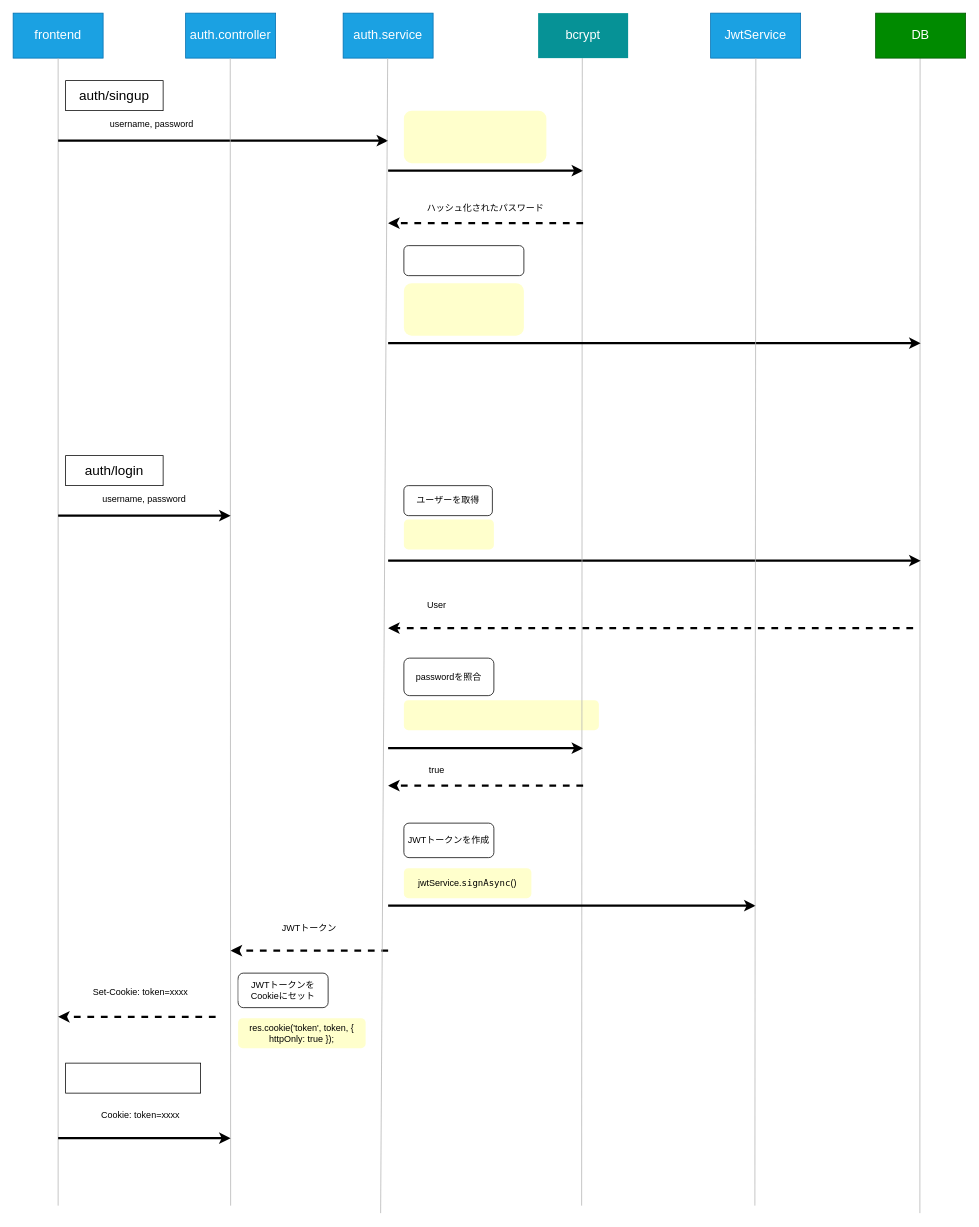
The diagram is 979 pixels wide and 1227 high, and some of its shapes have lost their labels. Here are the shapes that lost their labels. From the top down, the box of each, then its label:
(404, 110, 546, 163): bcrypt.hash( ハッシュ化したいpassword, ストレッチング回数)
(403, 245, 524, 276): ユーザーを作成
(404, 283, 524, 335): create({ username, hash化されたpassword })
(404, 519, 494, 549): findUnique()
(404, 700, 598, 730): crypt.compar(passwprd,hashedPassword)
(65, 1062, 201, 1093): その他のリクエスト
